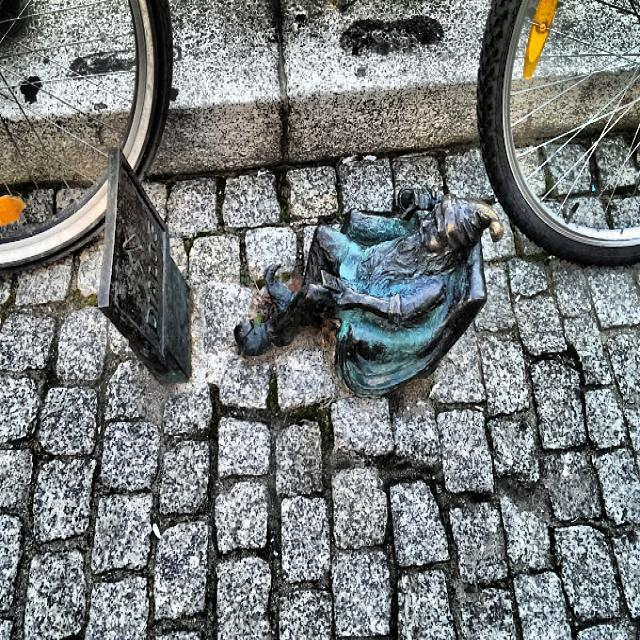Dialogomir: (234, 189, 503, 398), (98, 150, 193, 384)
